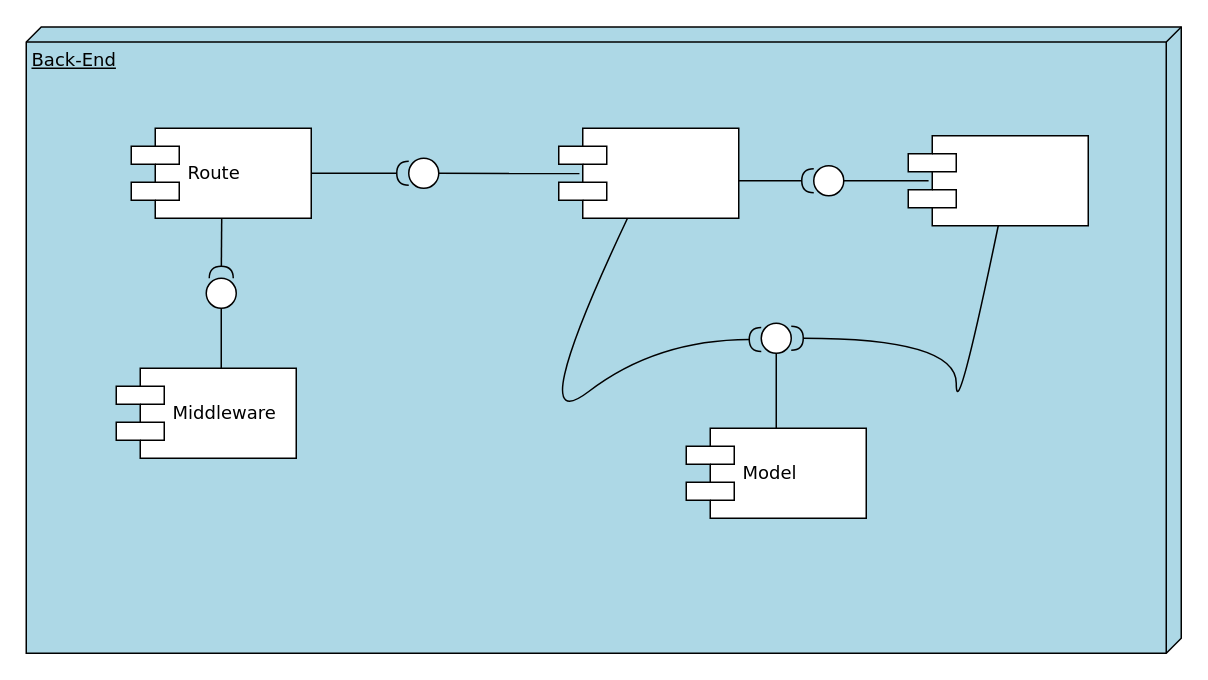
Some shapes in this 1208 by 680 pixel diagram are drawn without their labels. The shapes that lost their labels are listed below. From the top down, each one's centre as x and y in pixels, then its label:
(x=648, y=172): Controller
(x=997, y=180): Service
